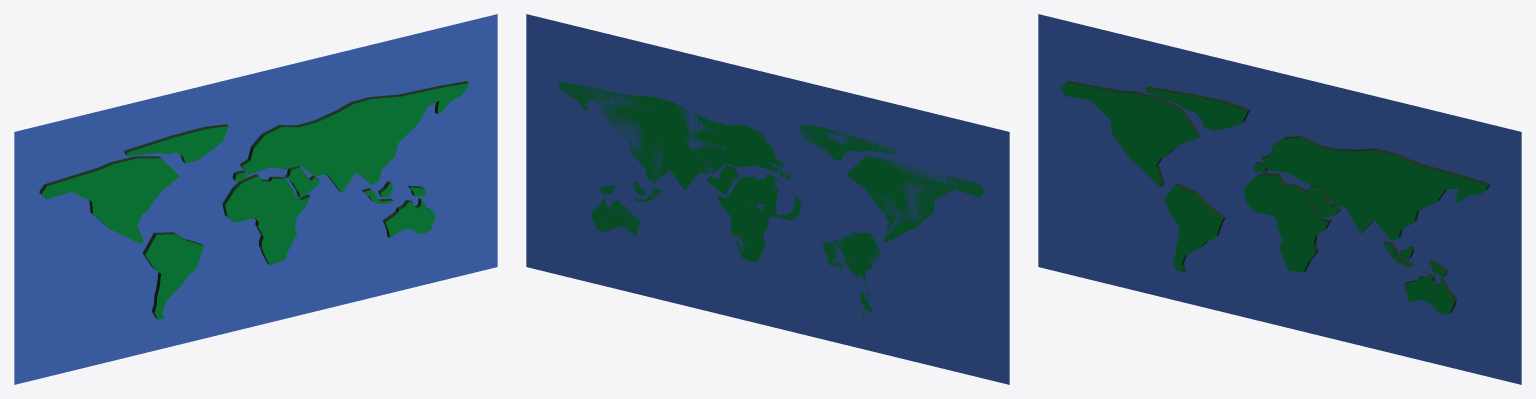
File: Map.fbx
The picture shows the model from 3 angles, left to right: view 1: azimuth 30°, elevation 25°; view 2: azimuth 150°, elevation 25°; view 3: azimuth 330°, elevation 25°; orthographic projection.
Parts seen in each view (by area): view 1: Map; view 2: Map; view 3: Map.
Boxes of the visible parts, x1,y1,x2,y2 form: Map: (14, 14, 497, 384); Map: (526, 14, 1009, 384); Map: (1038, 14, 1521, 384).
Size of the model in its own units: 12.95 by 6.47 by 0.1247.
